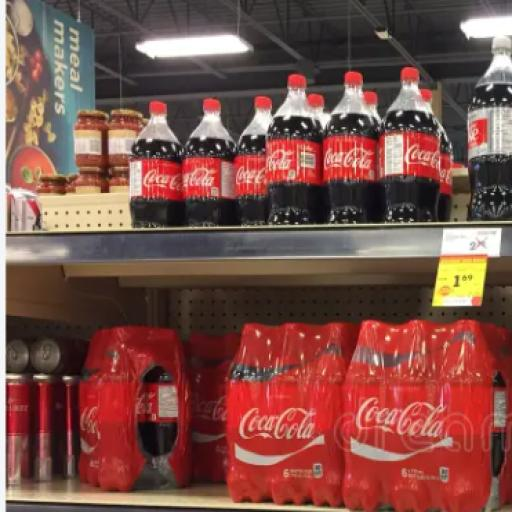coca_cola: (340, 321, 509, 511), (227, 324, 358, 506), (379, 68, 440, 222), (323, 72, 382, 223), (265, 75, 322, 225), (130, 101, 184, 228), (183, 99, 237, 226), (235, 132, 267, 225), (363, 91, 380, 122), (298, 168, 299, 169)
